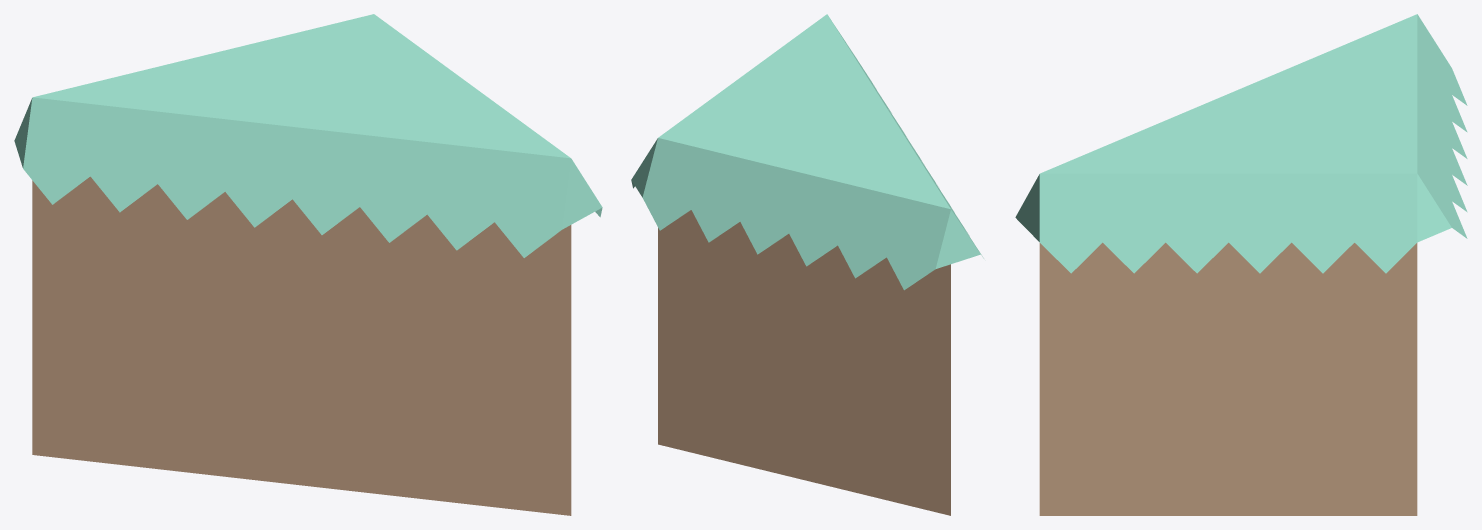
The picture shows the model from 3 angles, left to right: view 1: azimuth 30°, elevation 25°; view 2: azimuth 150°, elevation 25°; view 3: azimuth 270°, elevation 25°; orthographic projection. The views are drawn at different scales.
Visible parts, largest first — view 1: blockCornerLarge; view 2: blockCornerLarge; view 3: blockCornerLarge.
Part boxes in pixels (x1,y1,x2,y2): blockCornerLarge: (14, 14, 602, 515); blockCornerLarge: (631, 14, 983, 515); blockCornerLarge: (1015, 14, 1467, 515).
Size of the model in its own units: 1.2 by 1 by 1.2.
